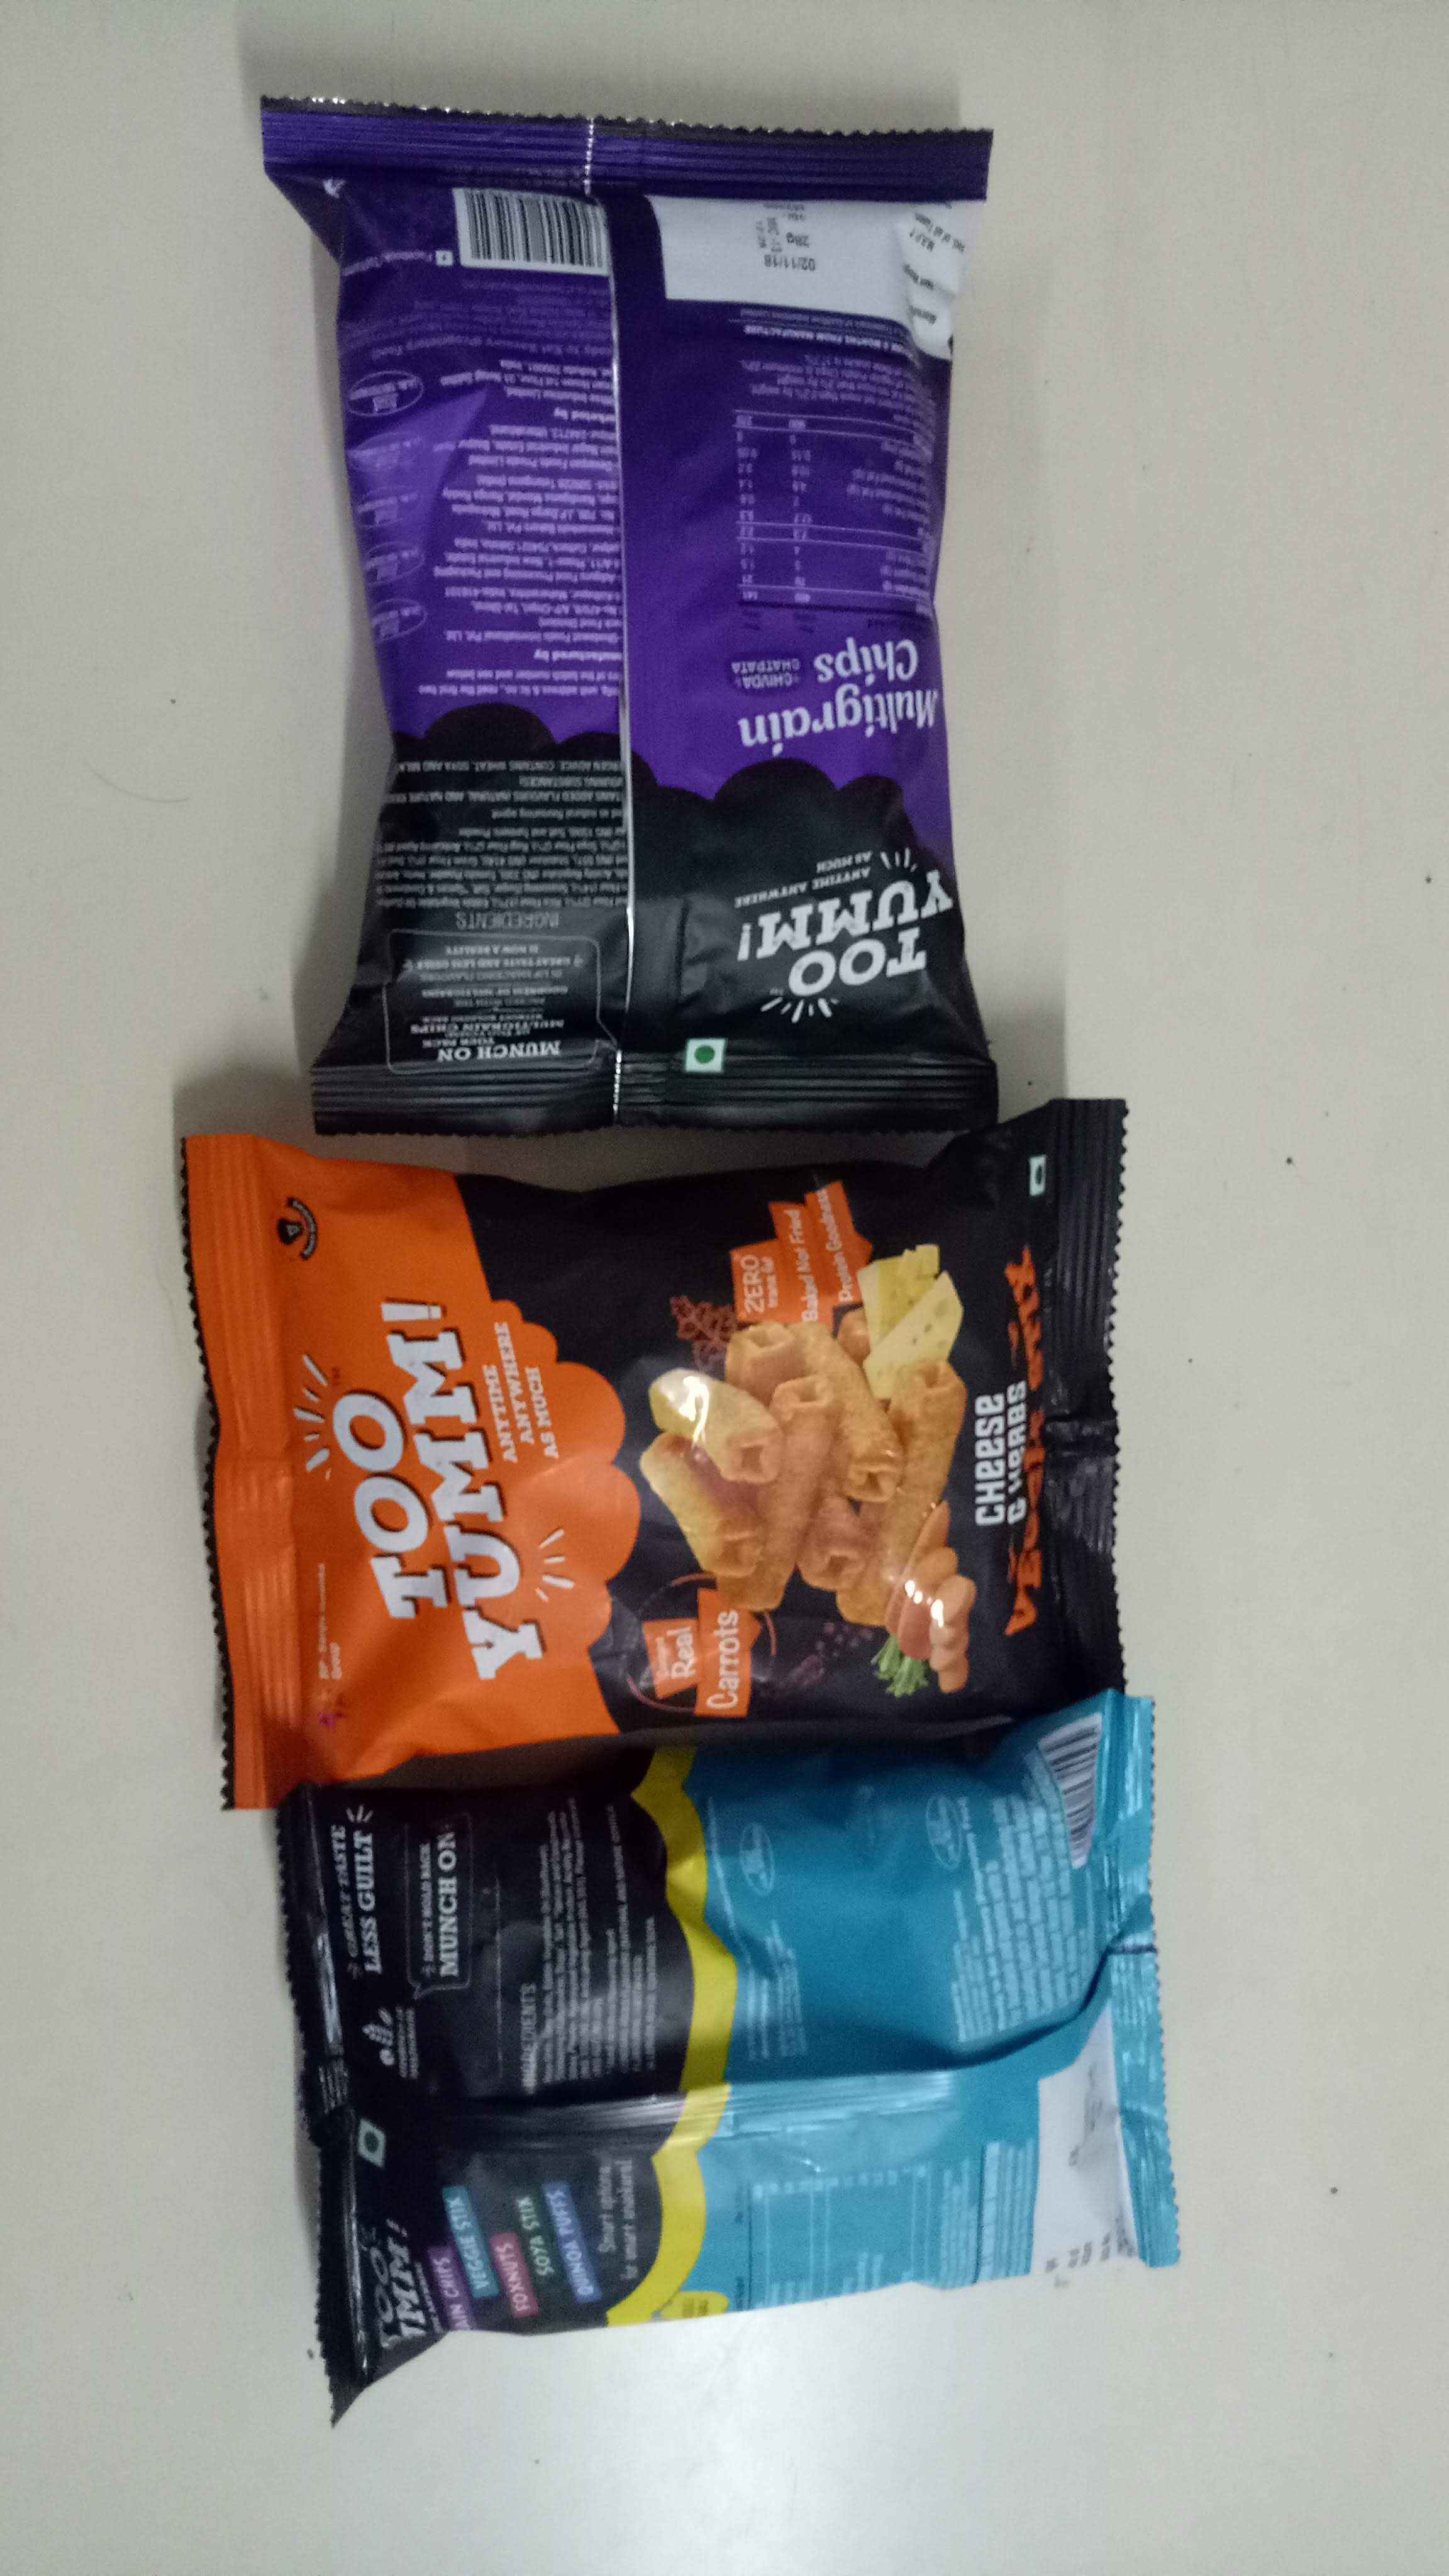tooyumm: (280, 1238, 579, 1686), (701, 842, 975, 1026), (340, 2201, 476, 2332)
